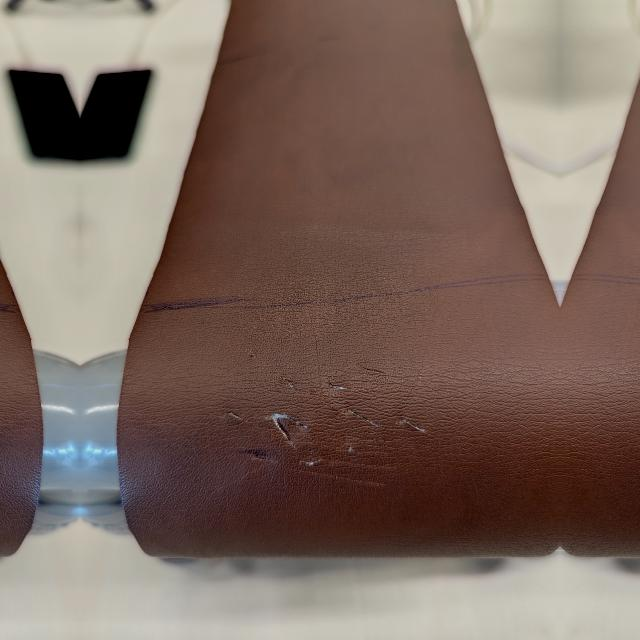belt_crack: (175, 315, 443, 490)
